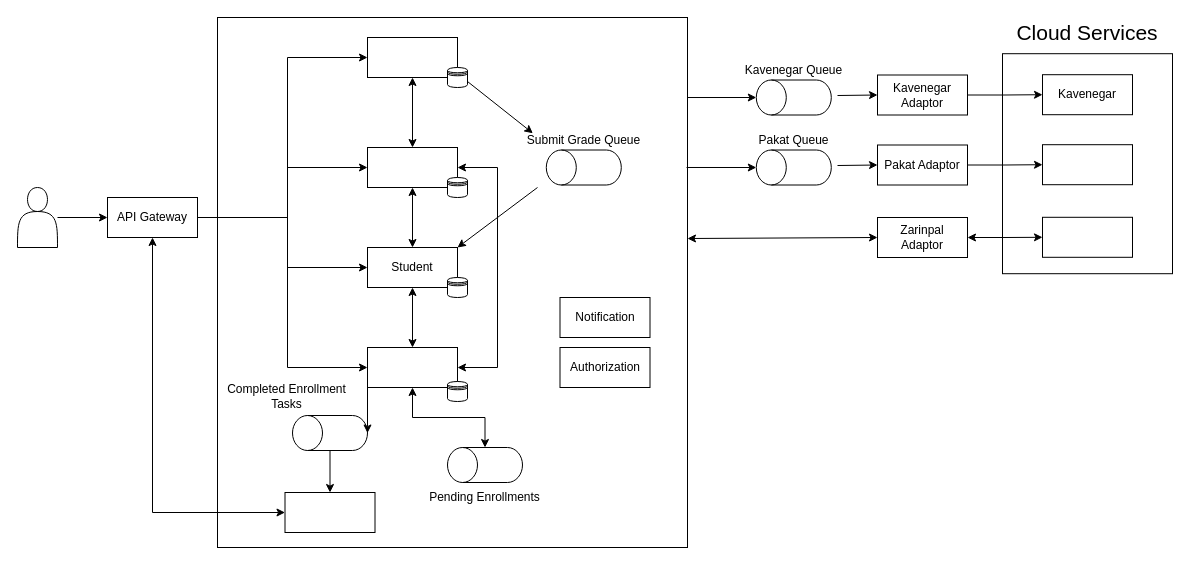
Image size: 1190x565. Some labels were removed from this diagram. The shapes that lost their labels are listed below. From the top down, each one's box as (x1, y1, x2, y2) in pixels, then its label:
(366, 36, 458, 78): Professor
(366, 146, 458, 188): Staff
(1042, 144, 1132, 185): Pakat
(1042, 216, 1132, 257): Zarinpal
(366, 346, 458, 388): Enrollment
(284, 492, 375, 532): Enrollment Websocket
